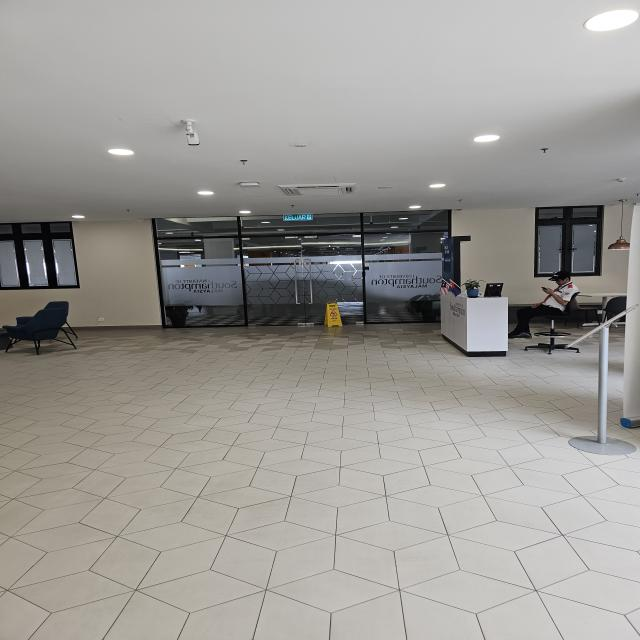footpath: (1, 363, 551, 638)
obstacle: (564, 312, 640, 458)
